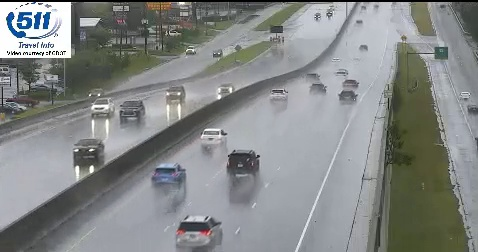car: (175, 216, 222, 250), (226, 149, 259, 174), (151, 164, 186, 185), (200, 128, 226, 146), (269, 88, 288, 100), (339, 91, 356, 104), (309, 82, 326, 94), (341, 78, 358, 89)
